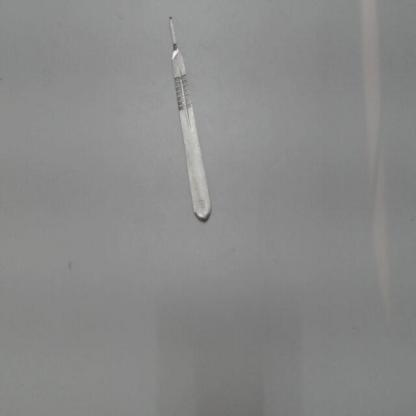No.3 BP Handle: (156, 9, 218, 229)
